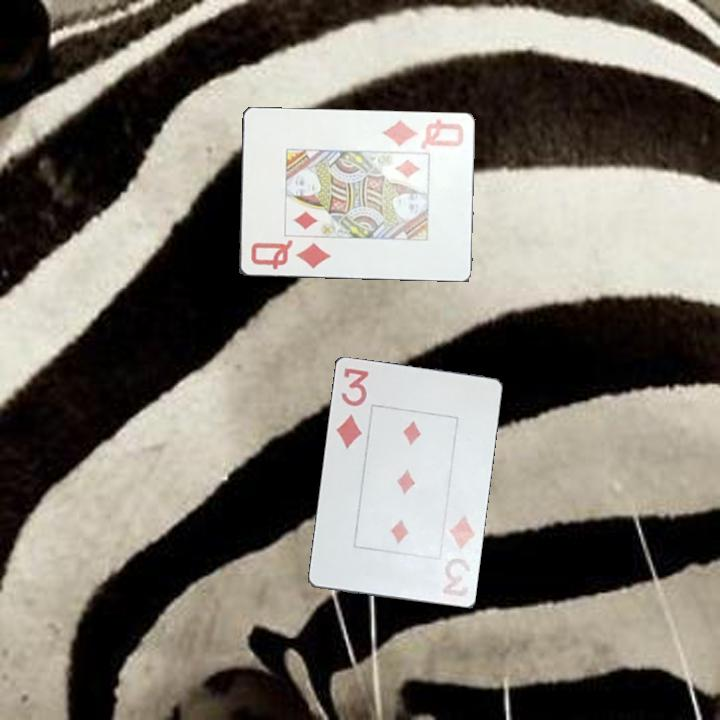3d: (437, 512, 478, 601), (331, 365, 372, 452)
Qd: (379, 116, 466, 153), (247, 237, 333, 273)
